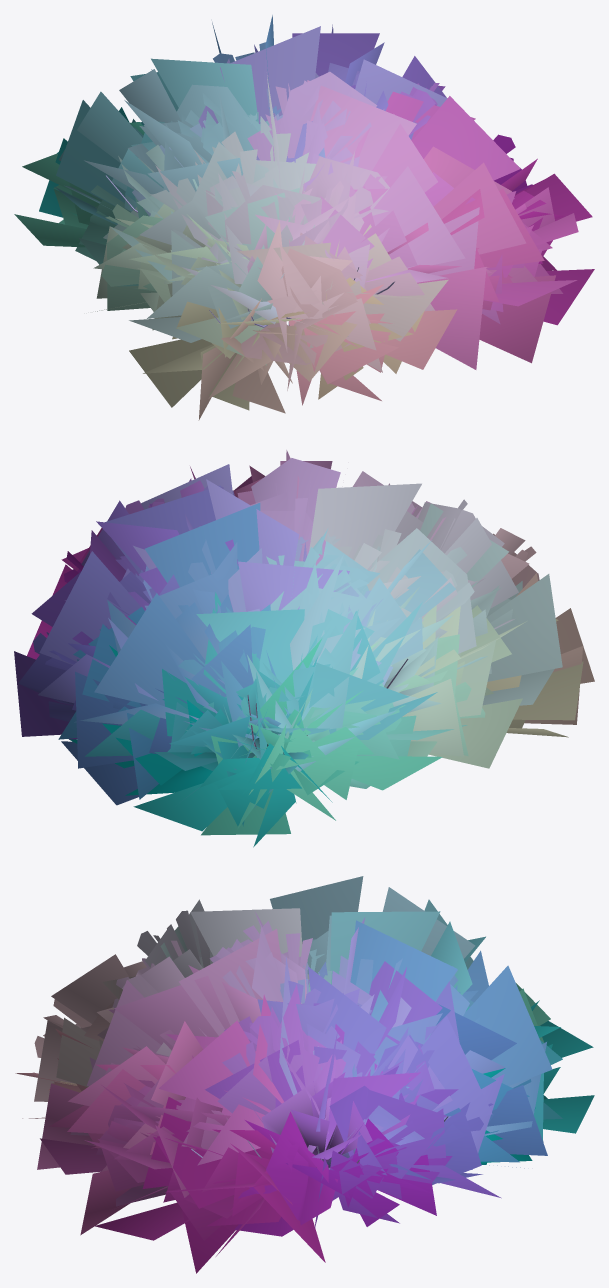
The picture shows the model from 3 angles, top to bottom: view 1: azimuth 30°, elevation 25°; view 2: azimuth 150°, elevation 25°; view 3: azimuth 270°, elevation 25°; orthographic projection. The views are drawn at different scales.
Parts seen in each view (by area): view 1: SM_BS_Cytisus_120cm_HD; view 2: SM_BS_Cytisus_120cm_HD; view 3: SM_BS_Cytisus_120cm_HD.
Boxes of the visible parts, x1=… form: SM_BS_Cytisus_120cm_HD: x1=14, y1=15, x2=594, y2=420; SM_BS_Cytisus_120cm_HD: x1=14, y1=450, x2=594, y2=847; SM_BS_Cytisus_120cm_HD: x1=15, y1=876, x2=594, y2=1273.
Size of the model in its own units: 140 by 125 by 75.28.
